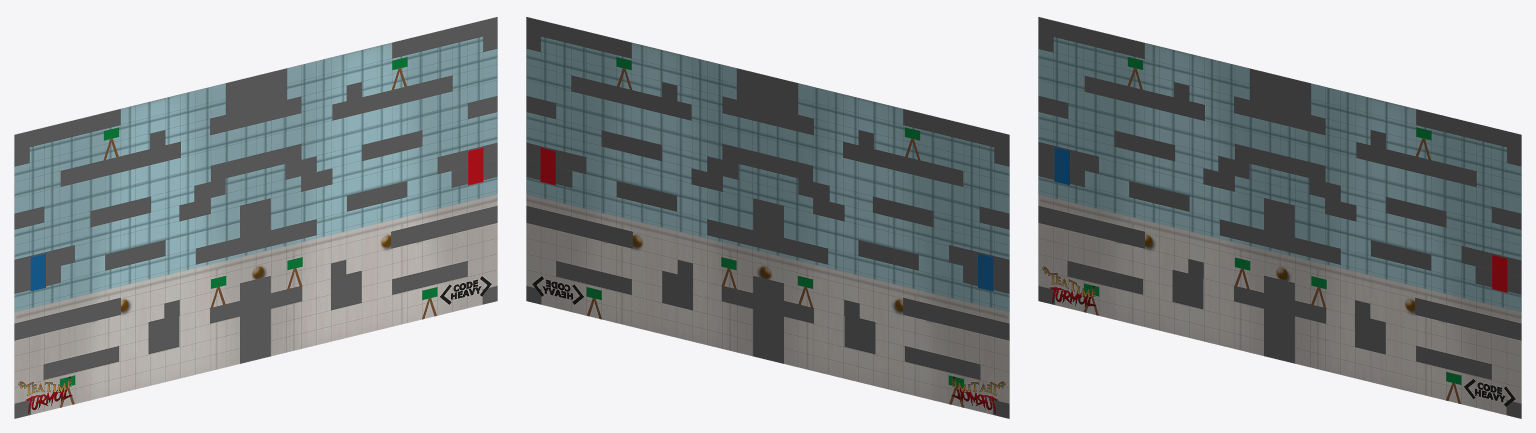
File: back01.fbx
3 views of the same model, side by side, from view 1: azimuth 30°, elevation 25°; view 2: azimuth 150°, elevation 25°; view 3: azimuth 330°, elevation 25° (orthographic).
Visible parts, largest first — view 1: pPlane1; view 2: pPlane1; view 3: pPlane1.
Boxes of the visible parts, x1,y1,x2,y2 form: pPlane1: (14, 17, 497, 418); pPlane1: (526, 17, 1009, 418); pPlane1: (1038, 17, 1521, 418).
Size of the model in its own units: 47.55 by 27 by 1.03e-14.
Materials: 1 (1 with a texture image).
